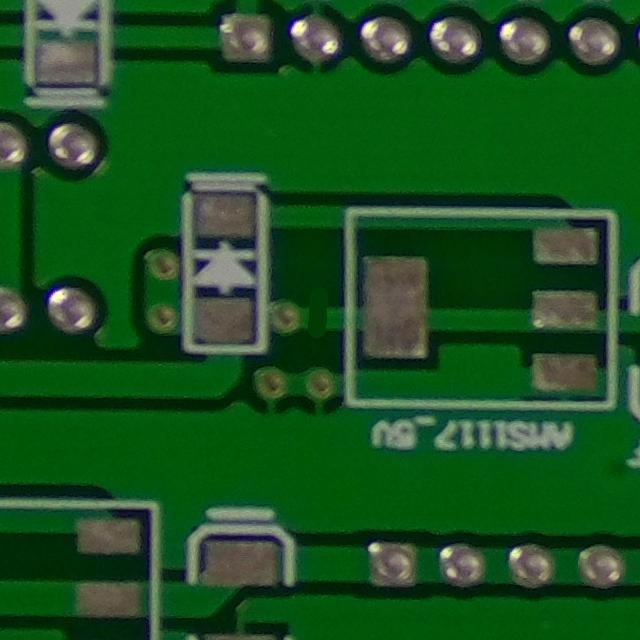open_circuit: (300, 294, 341, 347)
